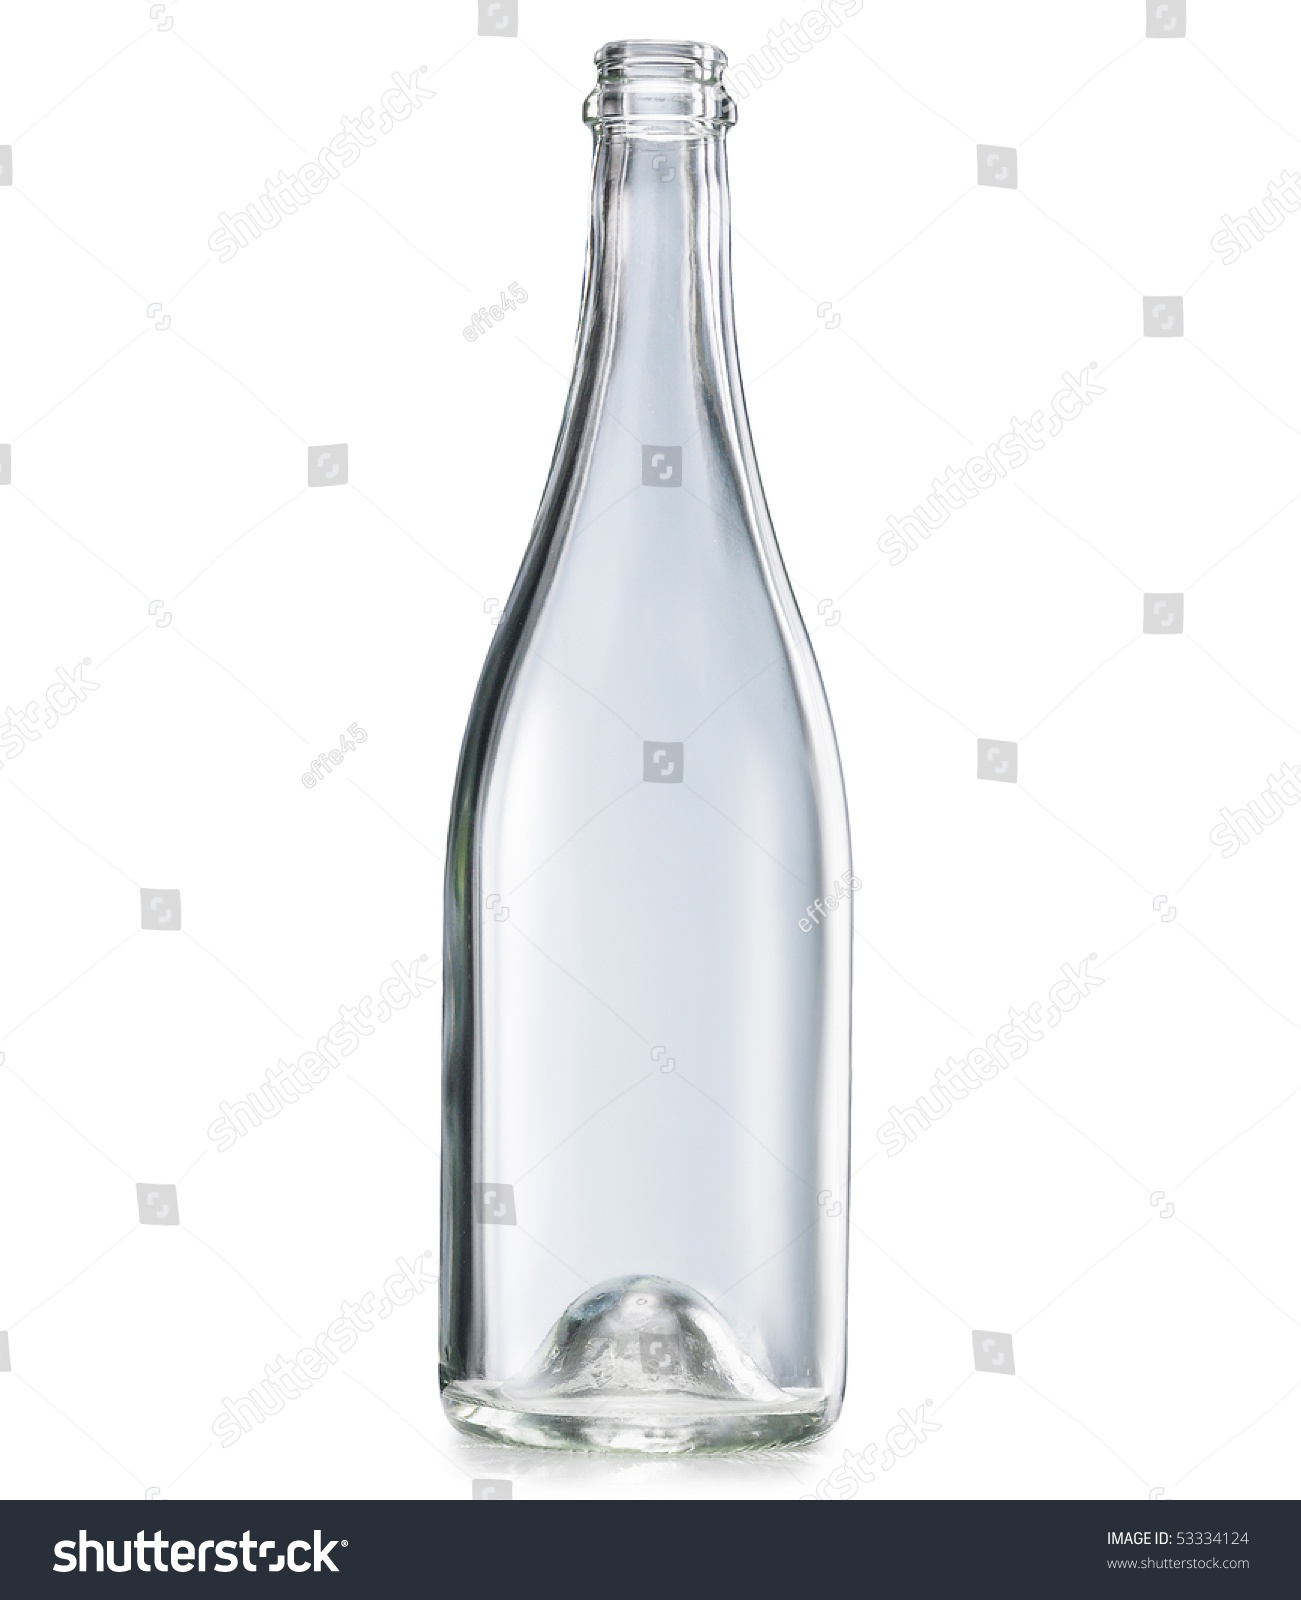emptybottle: (439, 42, 850, 1461)
